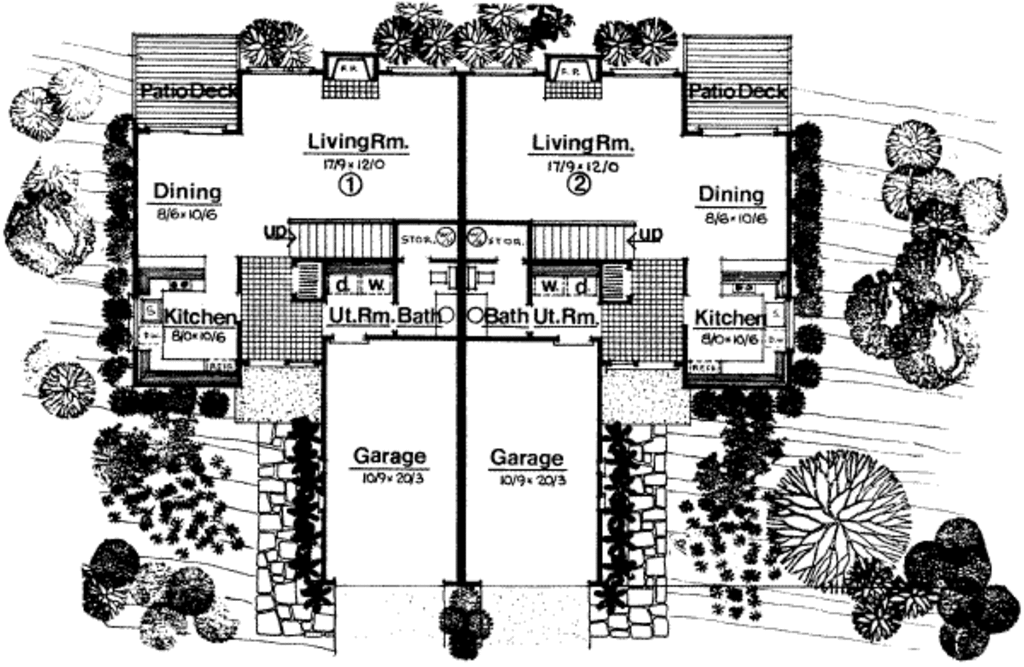large_sink: (469, 258, 504, 287), (417, 264, 457, 289)
small_sink: (459, 292, 496, 343), (435, 294, 459, 337)
stairs: (505, 211, 643, 261), (282, 215, 408, 261)
window: (605, 59, 677, 82), (474, 64, 543, 83), (388, 63, 456, 79), (780, 299, 800, 351)
